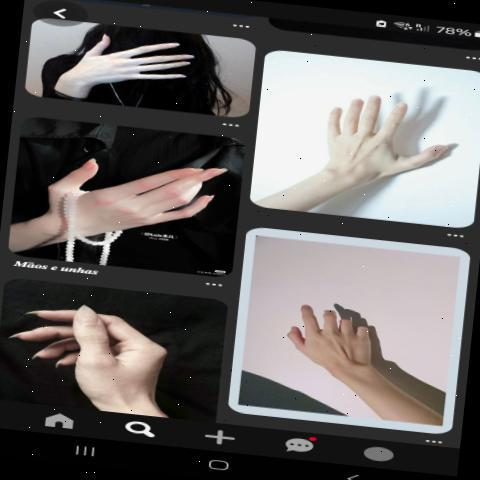Hands: (27, 132, 241, 247), (9, 286, 188, 416), (267, 259, 419, 390), (304, 76, 464, 198), (60, 32, 206, 100)
